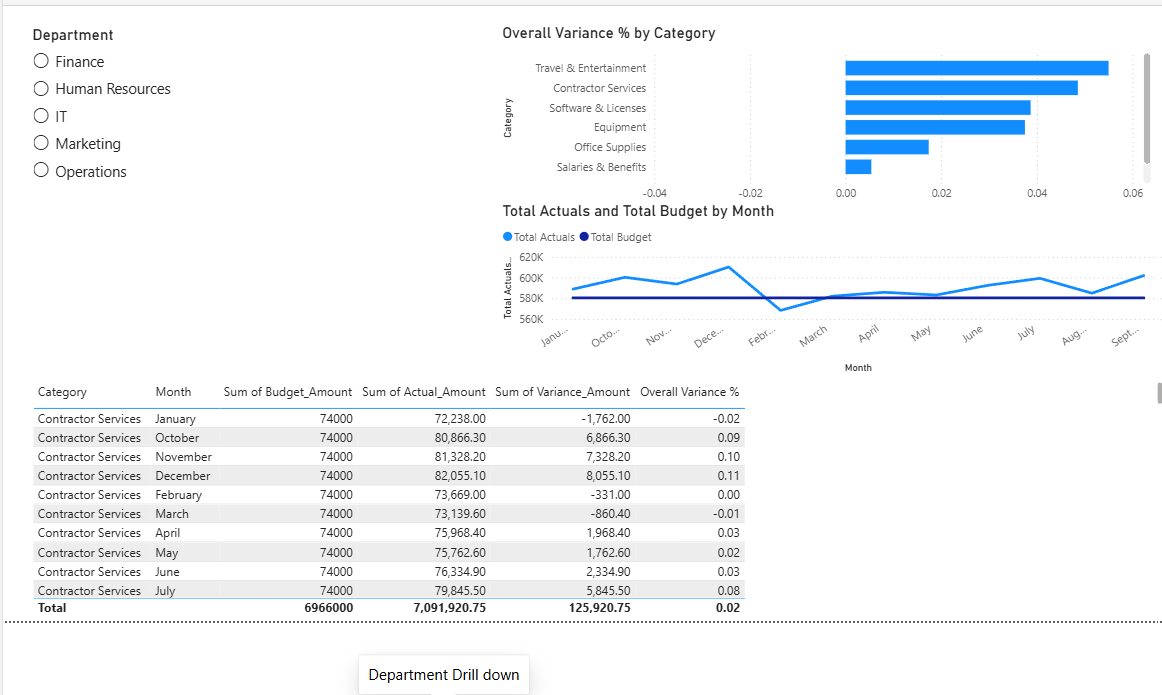

This screenshot's page, from the dashboard's own definition file:
{"tool":"powerbi","page":{"name":"Department Drill down ","canvas":[1280,720],"ordinal":1},"visuals":[{"type":"listSlicer","fields":{"Values":["Budget_Data.Department"]},"box":[27.4,65.9,516,387],"z":0},{"type":"clusteredBarChart","fields":{"Category":["Budget_Data.Category"],"Y":["Budget_Data.Overall Variance %"]},"box":[543.4,64.5,721.8,214.1],"z":1000},{"type":"lineChart","fields":{"Category":["Budget_Data.Month"],"Y":["Budget_Data.Total Actuals","Budget_Data.Total Budget"]},"box":[543.4,259.3,736.9,193.5],"z":2000},{"type":"tableEx","fields":{"Values":["Budget_Data.Category","Budget_Data.Month","Sum(Budget_Data.Budget_Amount)","Sum(Budget_Data.Actual_Amount)","Sum(Budget_Data.Variance_Amount)","Budget_Data.Overall Variance %"]},"box":[27.4,452.8,1252.8,267.6],"z":3000}]}

Visuals, with their boxes on the page's 1280x720 design canvas (x1, y1, x2, y2). These are canvas units, not pixel positions in the 1162x695 screenshot, which may show the page scaled, cropped or inside an application window:
listSlicer - Budget_Data.Department: (27, 66, 543, 453)
clusteredBarChart - Budget_Data.Category x Budget_Data.Overall Variance %: (543, 64, 1265, 279)
lineChart - Budget_Data.Month x Budget_Data.Total Actuals: (543, 259, 1280, 453)
tableEx - Budget_Data.Category x Budget_Data.Month: (27, 453, 1280, 720)
